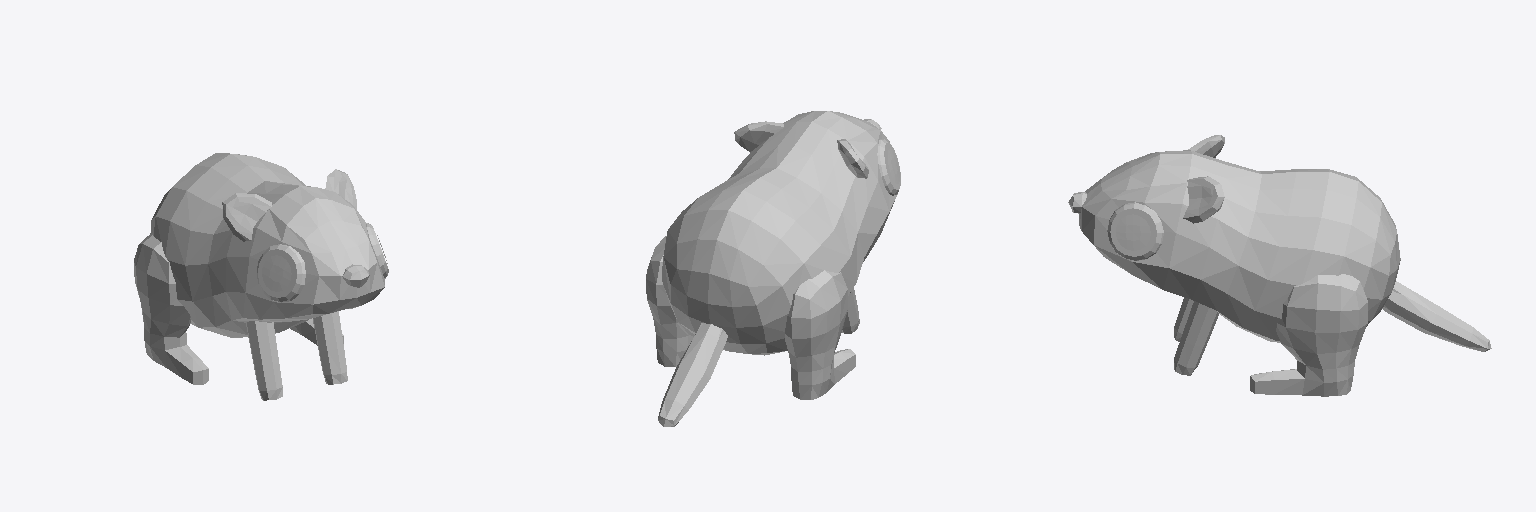
The model's file is Muskrat_LOD1.obj.
3 renders of one model, left to right at view 1: azimuth 30°, elevation 25°; view 2: azimuth 150°, elevation 25°; view 3: azimuth 270°, elevation 25°, orthographic.
Parts seen in each view (by area): view 1: Mesh_Muskrat_LOD1; view 2: Mesh_Muskrat_LOD1; view 3: Mesh_Muskrat_LOD1.
Part boxes in pixels (left/top/right/bottom): Mesh_Muskrat_LOD1: left=134, top=153, right=388, bottom=400; Mesh_Muskrat_LOD1: left=646, top=111, right=900, bottom=426; Mesh_Muskrat_LOD1: left=1068, top=135, right=1491, bottom=396.
Bounding box in the file's own units: 0.4648 × 0.4968 × 0.9343.